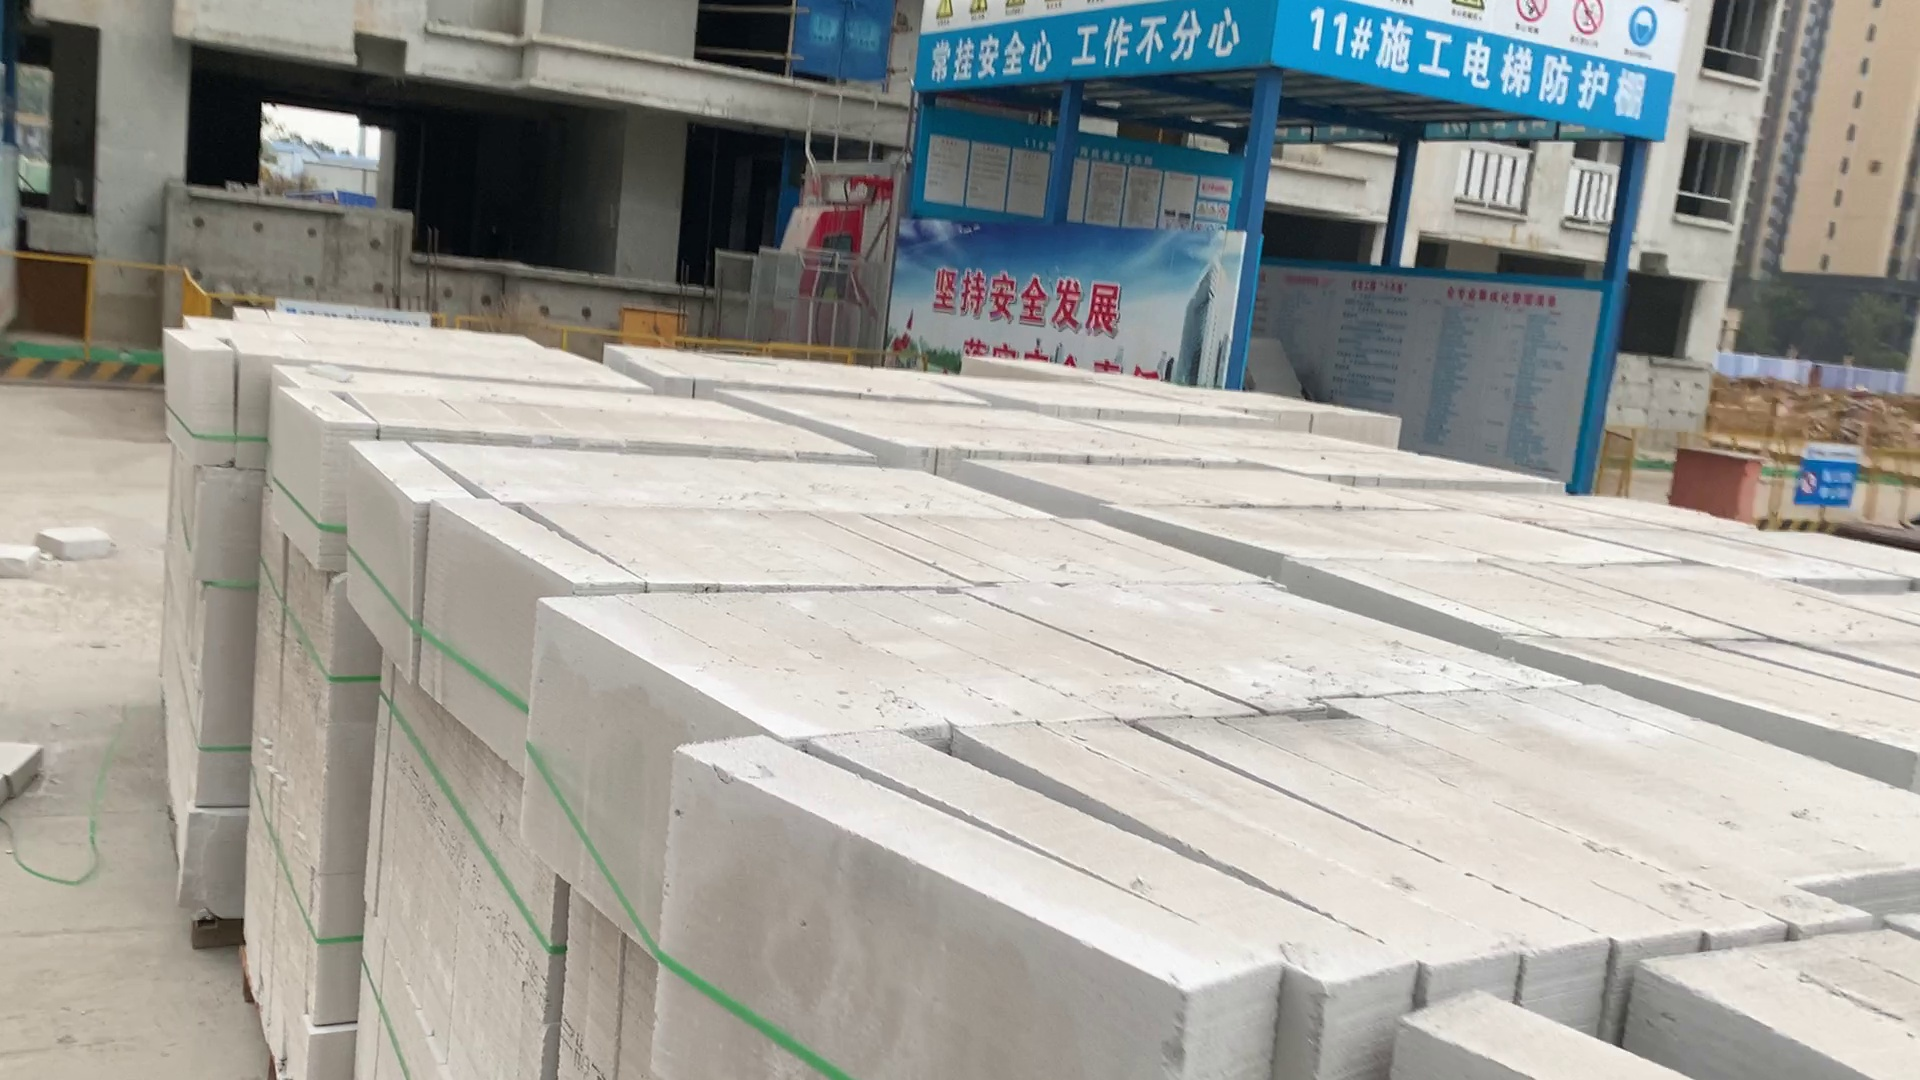brickwork: (673, 727, 1920, 975), (546, 596, 1582, 688), (434, 506, 1265, 592), (273, 361, 870, 460), (353, 435, 1052, 520), (1288, 558, 1920, 645), (1556, 640, 1920, 756), (173, 301, 644, 389), (719, 388, 1247, 465), (1085, 415, 1569, 488), (1118, 510, 1680, 568), (960, 458, 1447, 512), (604, 342, 978, 404)
